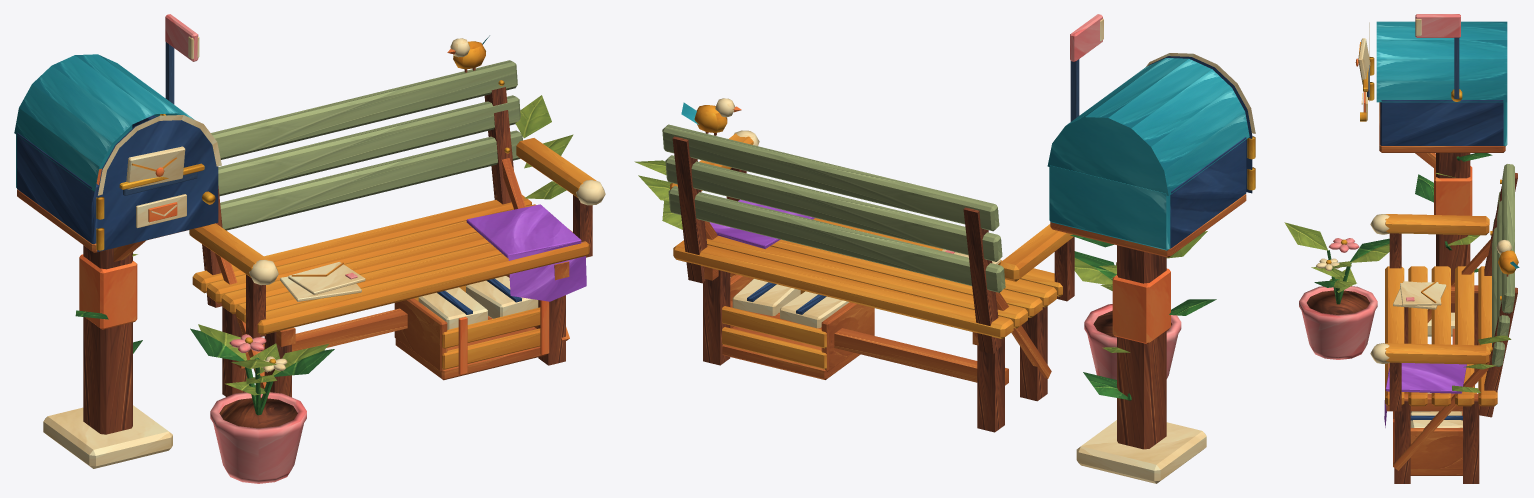
File: bloomwalker_painterly_mailbox_bench_editable_parts.glb
3 renders of one model, left to right at view 1: azimuth 30°, elevation 25°; view 2: azimuth 150°, elevation 25°; view 3: azimuth 270°, elevation 25°, orthographic. The views are drawn at different scales.
Parts seen in each view (by area): view 1: 018 Broad painted bench back slat 3, 017 Broad painted bench back slat 2, 016 Broad painted bench back slat 1, 055 Operable mailbox broad front door, 007 Usable bench seat slat 1, 039 Mailbox substantial timber post, 089 Pink ground herb planter, 044 Mailbox left side shell, 038 Mailbox broad stone-colored shoe, 011 Usable bench seat slat 5, 087 Coral seat corner cloth, 040 Mailbox painted post wrap (+35 smaller); view 2: 018 Broad painted bench back slat 3, 016 Broad painted bench back slat 1, 017 Broad painted bench back slat 2, 011 Usable bench seat slat 5, 046 Mailbox rear wall, 039 Mailbox substantial timber post, 056 Mailbox rear curved cap, 038 Mailbox broad stone-colored shoe, 044 Mailbox left side shell, 010 Usable bench seat slat 4, 040 Mailbox painted post wrap, 006 Bench long low stretcher (+27 smaller); view 3: 045 Mailbox right side shell, 089 Pink ground herb planter, 048 Curved mailbox roof strip 2, 047 Curved mailbox roof strip 1, 049 Curved mailbox roof strip 3, 020 Bench rounded armrest 1, 023 Bench rounded armrest 2, 027 Postal crate end board 2, 039 Mailbox substantial timber post, 087 Coral seat corner cloth, 010 Usable bench seat slat 4, 009 Usable bench seat slat 3 (+35 smaller).
Boxes of the visible parts, bbox=[...] form: 018 Broad painted bench back slat 3: bbox=[211, 60, 517, 159]; 017 Broad painted bench back slat 2: bbox=[218, 95, 520, 195]; 016 Broad painted bench back slat 1: bbox=[189, 130, 522, 233]; 055 Operable mailbox broad front door: bbox=[97, 116, 218, 251]; 007 Usable bench seat slat 1: bbox=[257, 241, 589, 335]; 039 Mailbox substantial timber post: bbox=[83, 245, 132, 434]; 089 Pink ground herb planter: bbox=[210, 392, 306, 483]; 044 Mailbox left side shell: bbox=[17, 132, 98, 244]; 038 Mailbox broad stone-colored shoe: bbox=[43, 405, 172, 468]; 011 Usable bench seat slat 5: bbox=[192, 195, 531, 293]; 087 Coral seat corner cloth: bbox=[466, 204, 581, 258]; 040 Mailbox painted post wrap: bbox=[79, 254, 137, 329]; 018 Broad painted bench back slat 3: bbox=[662, 124, 999, 231]; 016 Broad painted bench back slat 1: bbox=[668, 186, 1005, 292]; 017 Broad painted bench back slat 2: bbox=[665, 155, 1002, 261]; 011 Usable bench seat slat 5: bbox=[673, 240, 1013, 338]; 046 Mailbox rear wall: bbox=[1049, 165, 1170, 250]; 039 Mailbox substantial timber post: bbox=[1117, 245, 1166, 449]; 056 Mailbox rear curved cap: bbox=[1047, 117, 1168, 195]; 038 Mailbox broad stone-colored shoe: bbox=[1076, 420, 1206, 483]; 044 Mailbox left side shell: bbox=[1170, 137, 1246, 248]; 010 Usable bench seat slat 4: bbox=[706, 236, 1027, 328]; 040 Mailbox painted post wrap: bbox=[1112, 268, 1170, 344]; 006 Bench long low stretcher: bbox=[730, 301, 1008, 385]; 045 Mailbox right side shell: bbox=[1380, 100, 1503, 145]; 089 Pink ground herb planter: bbox=[1299, 286, 1377, 359]; 048 Curved mailbox roof strip 2: bbox=[1376, 59, 1507, 80]; 047 Curved mailbox roof strip 1: bbox=[1376, 80, 1507, 102]; 049 Curved mailbox roof strip 3: bbox=[1376, 40, 1507, 58]; 020 Bench rounded armrest 1: bbox=[1385, 214, 1489, 235]; 023 Bench rounded armrest 2: bbox=[1385, 343, 1489, 364]; 027 Postal crate end board 2: bbox=[1410, 428, 1462, 469]; 039 Mailbox substantial timber post: bbox=[1436, 153, 1470, 312]; 087 Coral seat corner cloth: bbox=[1385, 363, 1466, 393]; 010 Usable bench seat slat 4: bbox=[1455, 266, 1474, 406]; 009 Usable bench seat slat 3: bbox=[1431, 266, 1450, 406].
Size of the model in its own units: 2.67 by 1.92 by 1.23.
Materials: 3 (3 with a texture image).
